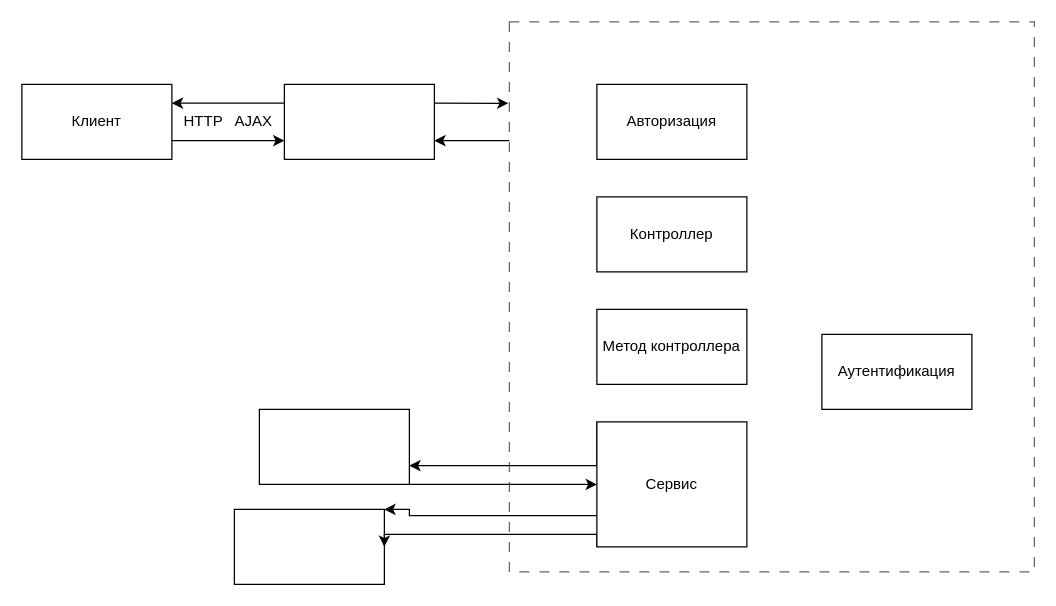
The diagram is 1056 pixels wide and 606 high, and some of its shapes have lost their labels. The centre of each missing label's shape, as x and y in pixels:
"IIS Reverse Proxy" goes at (358,121).
"База данных" goes at (308,546).
"Файловая система" goes at (333,446).
